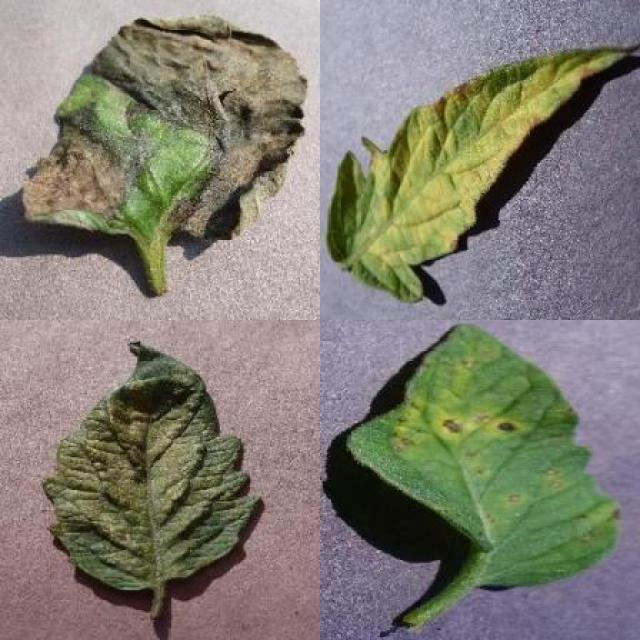Late Blight: (20, 18, 310, 242)
Leaf Mold: (325, 47, 628, 303)
Septoria: (350, 322, 620, 588)
Spider Mites: (42, 340, 261, 593)
